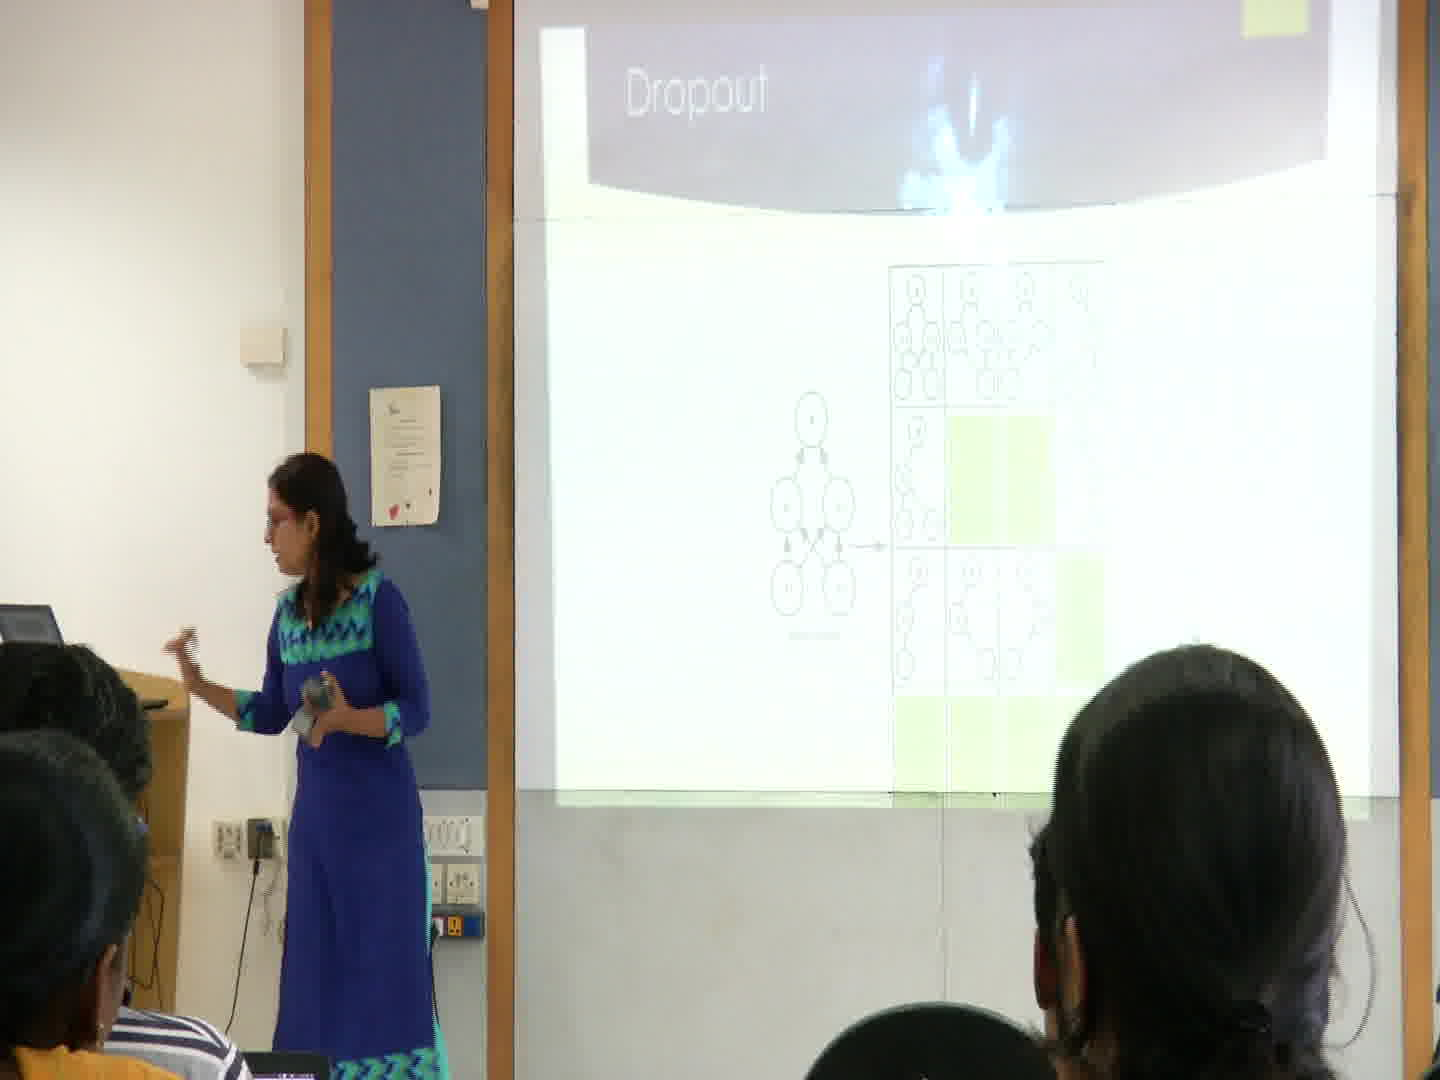fig: (886, 259, 1106, 811), (764, 385, 853, 625)
